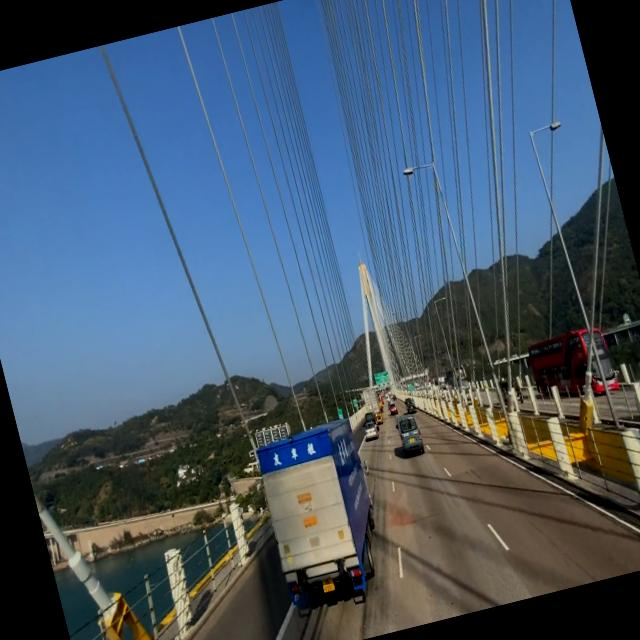Vehicle: (249, 415, 400, 623), (392, 409, 428, 462)
